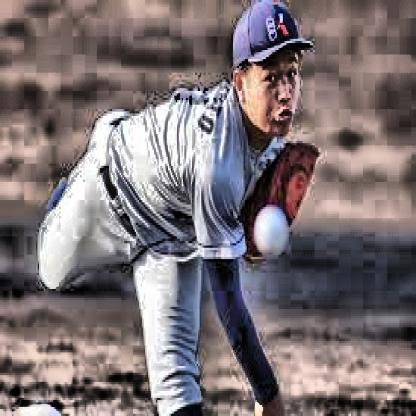baseball: (256, 209, 286, 256)
